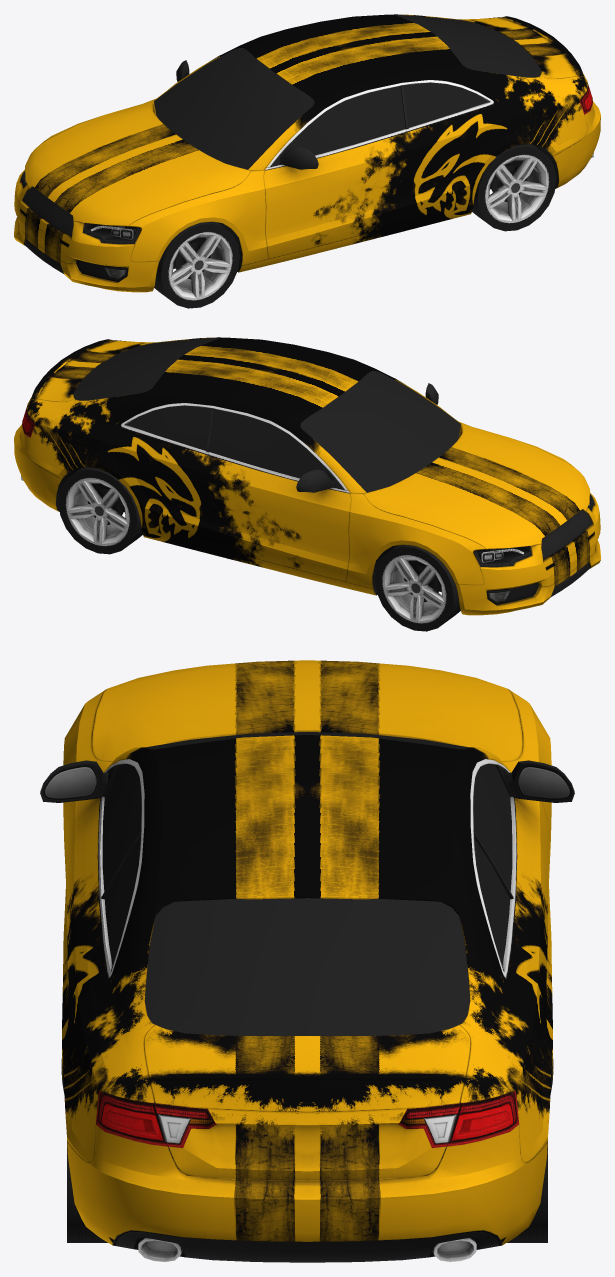
Rendered from car_2.FBX.
The picture shows the model from 3 angles, top to bottom: view 1: azimuth 30°, elevation 25°; view 2: azimuth 150°, elevation 25°; view 3: azimuth 270°, elevation 25°; orthographic projection. The views are drawn at different scales.
Parts seen in each view (by area): view 1: car_2; view 2: car_2; view 3: car_2.
Part boxes in pixels (left/top/right/bottom): car_2: left=14, top=14, right=600, bottom=308; car_2: left=14, top=337, right=600, bottom=631; car_2: left=40, top=660, right=574, bottom=1262.
Size of the model in its own units: 69.87 by 21.03 by 30.43.
